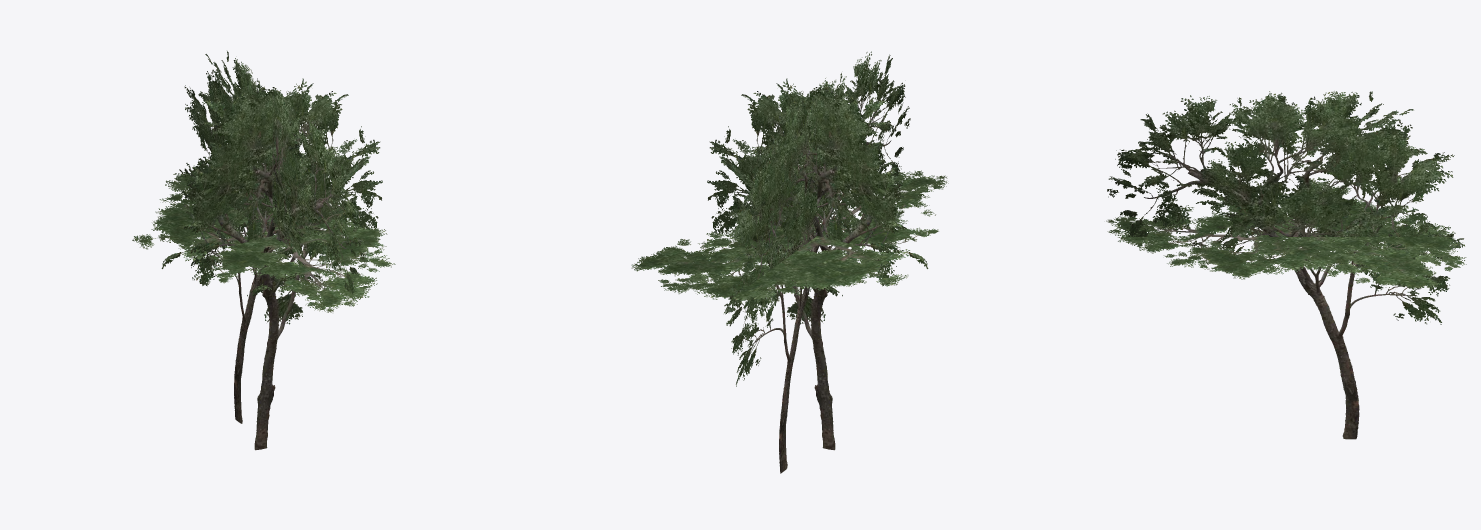
File: leafy.glb
3 views of the same model, side by side, from view 1: azimuth 30°, elevation 25°; view 2: azimuth 150°, elevation 25°; view 3: azimuth 270°, elevation 25° (orthographic). The views are drawn at different scales.
Visible parts, largest first — view 1: leafy_0; view 2: leafy_0; view 3: leafy_0.
Boxes of the visible parts, x1,y1,x2,y2 form: leafy_0: [132, 51, 395, 450]; leafy_0: [631, 51, 948, 473]; leafy_0: [1106, 91, 1466, 439].
Size of the model in its own units: 4.29 by 4.56 by 4.29.
2 materials, 2 textured.
